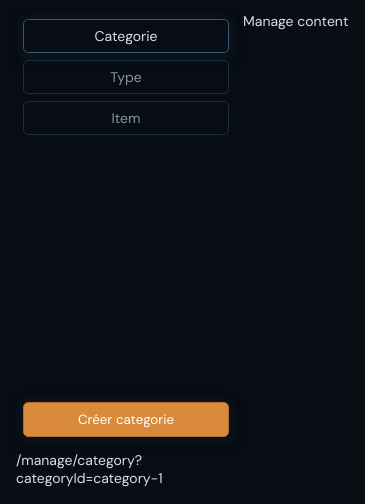
LeftNavContentLayout › navigates to the category create route and keeps the query
The image size is (365, 504).
Click the button "Créer categorie". click: (126, 419)
box: [23,402,229,436]
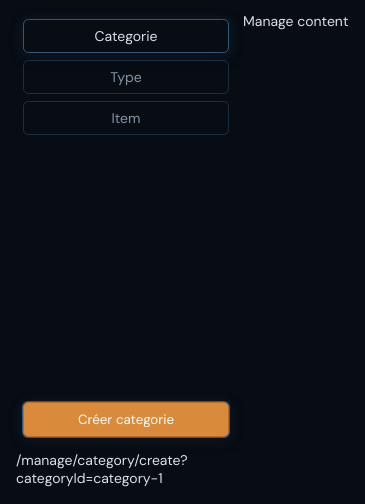
Check: the text with test id "location" reads "/manage/category/create?categoryId=category-1", box [16,450,188,486]
